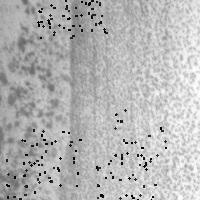pitted_surface: (77, 1, 199, 200), (9, 1, 61, 197), (108, 109, 165, 168), (21, 129, 79, 185), (96, 154, 155, 200), (37, 0, 91, 37), (49, 0, 106, 35), (0, 159, 37, 200)
